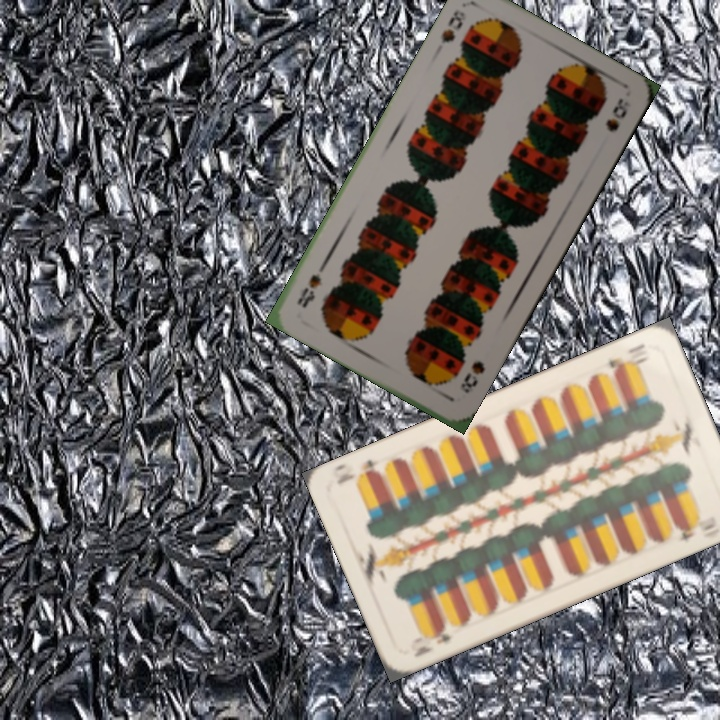E10: (604, 339, 651, 377), (410, 621, 454, 660)
S8: (437, 5, 469, 47), (456, 356, 488, 396)
